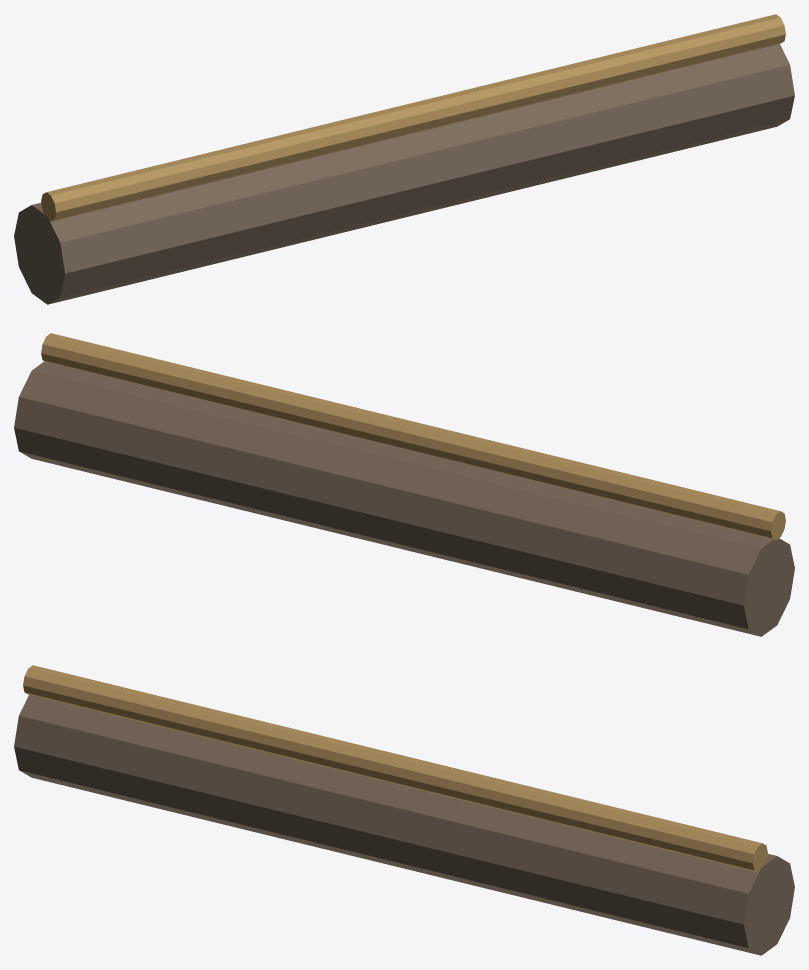
Rendered from ridge_broken.glb.
The picture shows the model from 3 angles, top to bottom: view 1: azimuth 30°, elevation 25°; view 2: azimuth 150°, elevation 25°; view 3: azimuth 330°, elevation 25°; orthographic projection.
Visible parts, largest first — view 1: Body.042; view 2: Body.042; view 3: Body.042.
Part boxes in pixels (x1,y1,x2,y2): Body.042: (14, 14, 794, 304); Body.042: (14, 333, 794, 636); Body.042: (14, 665, 794, 955).
Size of the model in its own units: 1.4 by 0.2046 by 0.17.
